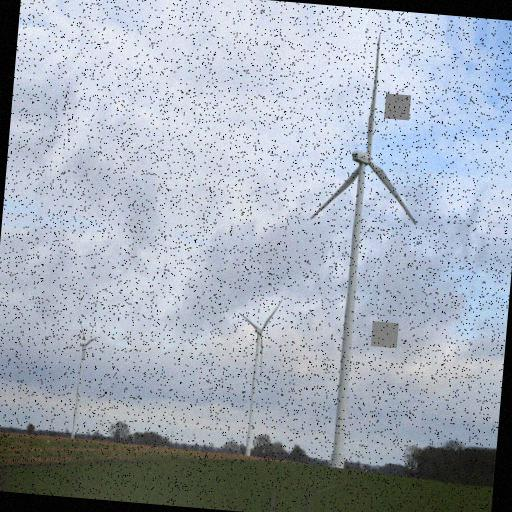wind turbine: (308, 32, 422, 464), (239, 299, 285, 456)
